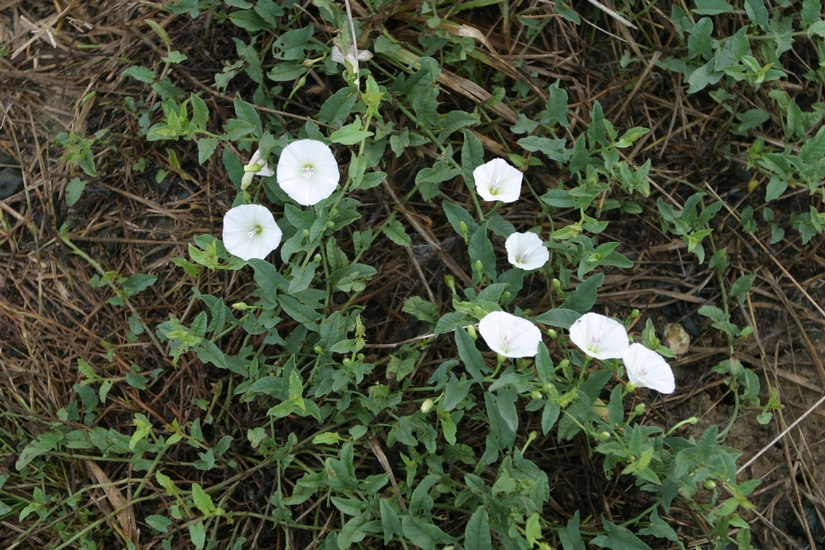bindweed: (274, 138, 343, 209), (220, 200, 286, 263), (478, 311, 546, 360), (568, 310, 629, 360), (621, 341, 675, 396), (469, 155, 527, 205), (503, 230, 551, 272)
